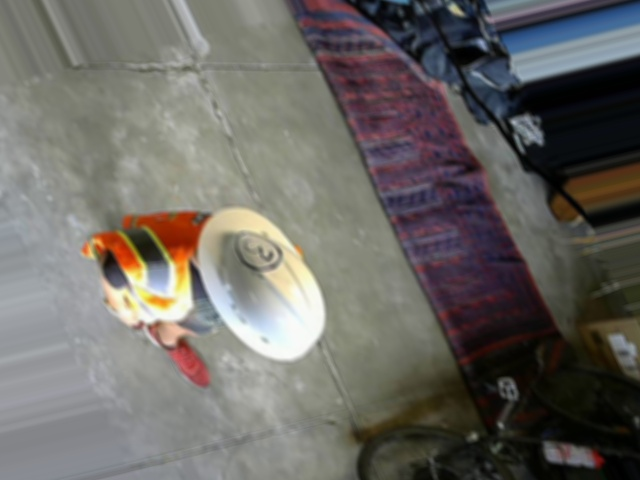three: (227, 226, 286, 273)
